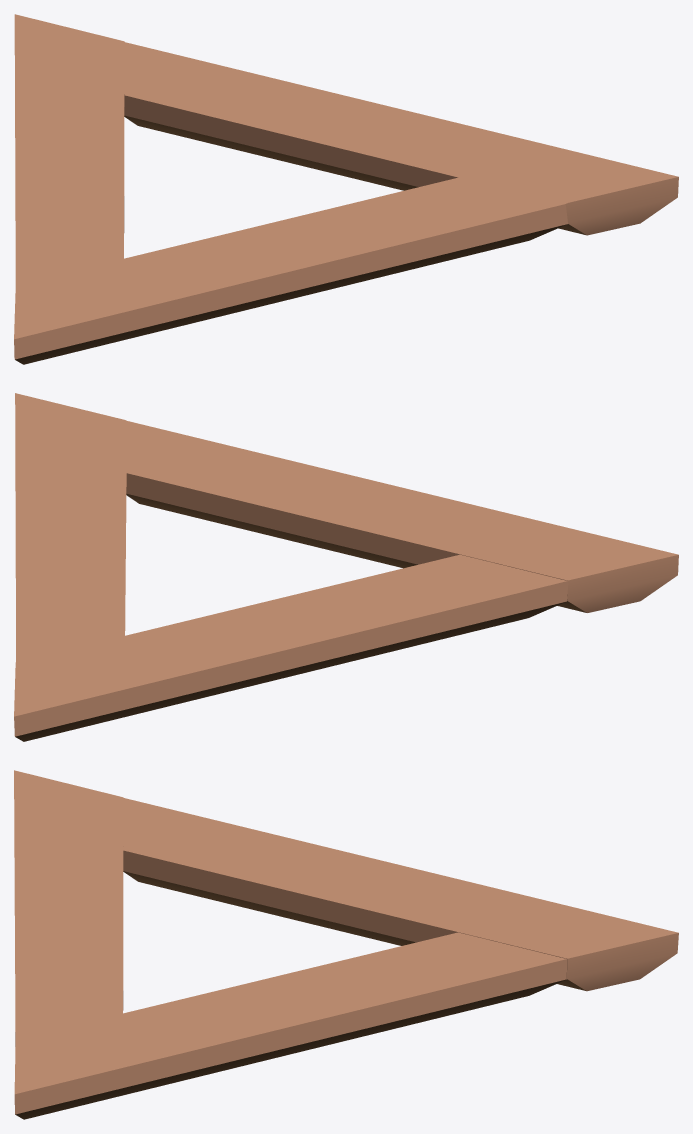
The model's file is pineSplitLogTriFloorSection1.glb.
The picture shows the model from 3 angles, top to bottom: view 1: azimuth 30°, elevation 25°; view 2: azimuth 150°, elevation 25°; view 3: azimuth 270°, elevation 25°; orthographic projection.
Parts seen in each view (by area): view 1: Outside; view 2: Outside; view 3: Outside.
Part boxes in pixels (x1,y1,x2,y2): Outside: (14, 14, 678, 364); Outside: (14, 393, 678, 741); Outside: (14, 770, 678, 1119).
Size of the model in its own units: 2.03 by 0.1233 by 1.76.
